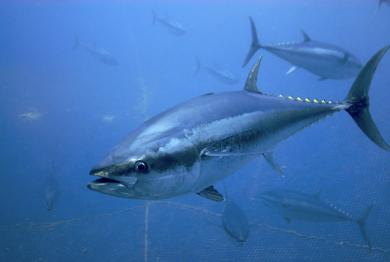Scombridae -Tunas-: (84, 41, 390, 202), (237, 13, 367, 83), (253, 182, 381, 251)
